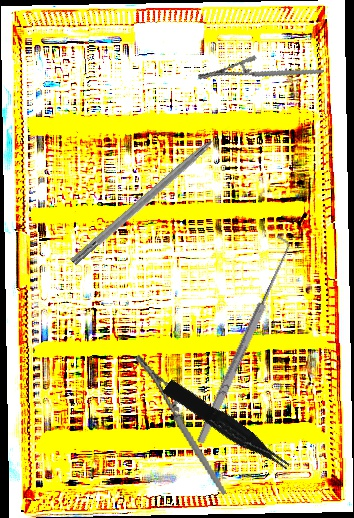Hook Surgical: (69, 122, 235, 268), (187, 234, 297, 447)
Needle Holder: (133, 341, 227, 508), (197, 35, 324, 114)
Tissue Forceps: (162, 374, 292, 480)
